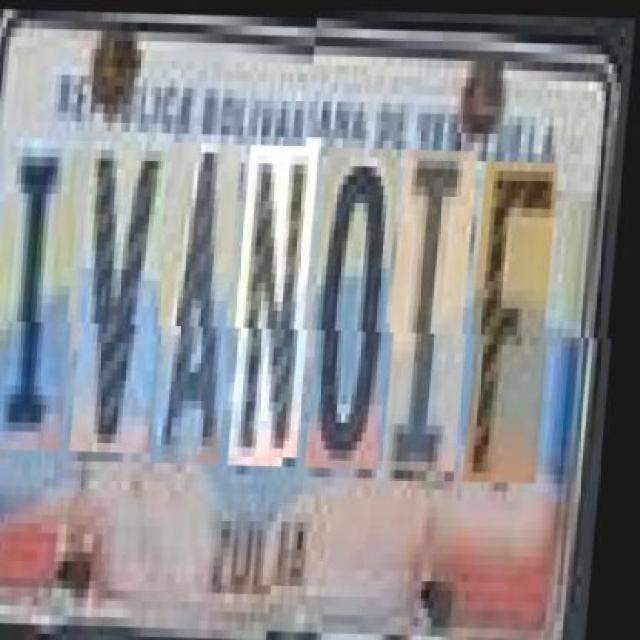a: (158, 141, 250, 464)
f: (470, 166, 565, 489)
i: (389, 156, 485, 478), (0, 137, 89, 449)
n: (236, 142, 326, 466)
o: (312, 154, 408, 477)
v: (77, 139, 177, 453)
